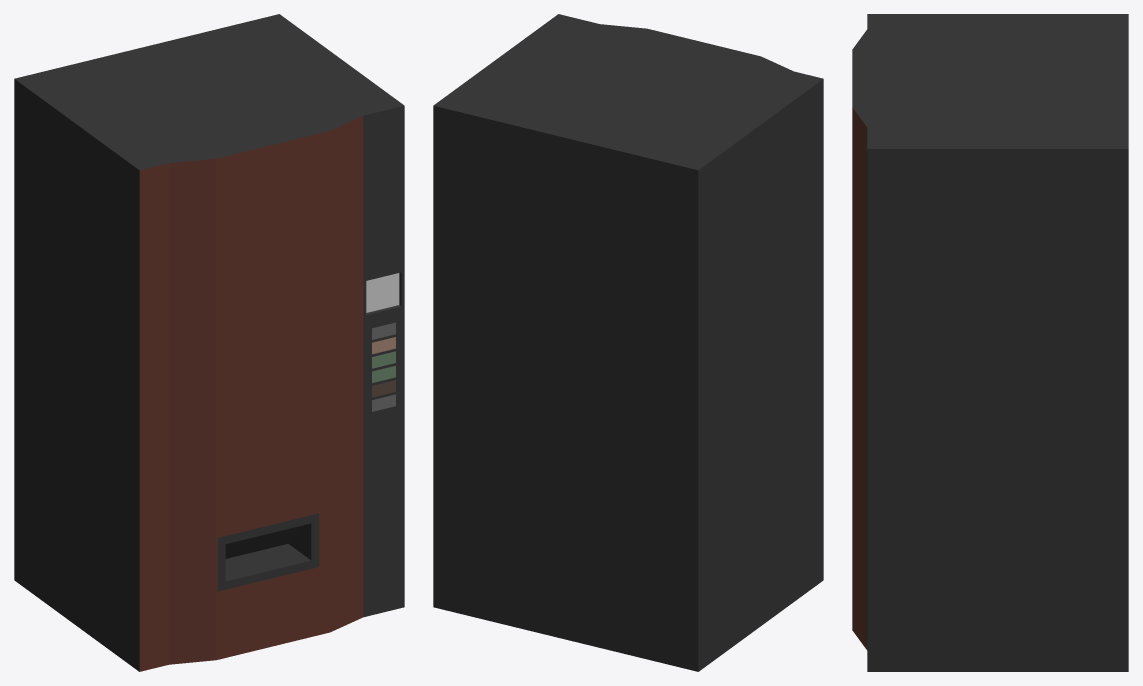
The model's file is Vendor.fbx.
The picture shows the model from 3 angles, left to right: view 1: azimuth 30°, elevation 25°; view 2: azimuth 150°, elevation 25°; view 3: azimuth 270°, elevation 25°; orthographic projection. The views are drawn at different scales.
Visible parts, largest first — view 1: Cube.009; view 2: Cube.009; view 3: Cube.009.
Boxes of the visible parts, bbox=[...] form: Cube.009: bbox=[14, 14, 404, 671]; Cube.009: bbox=[433, 14, 823, 671]; Cube.009: bbox=[852, 14, 1128, 671].
Bounding box in the file's own units: 111 × 200 × 95.68.
